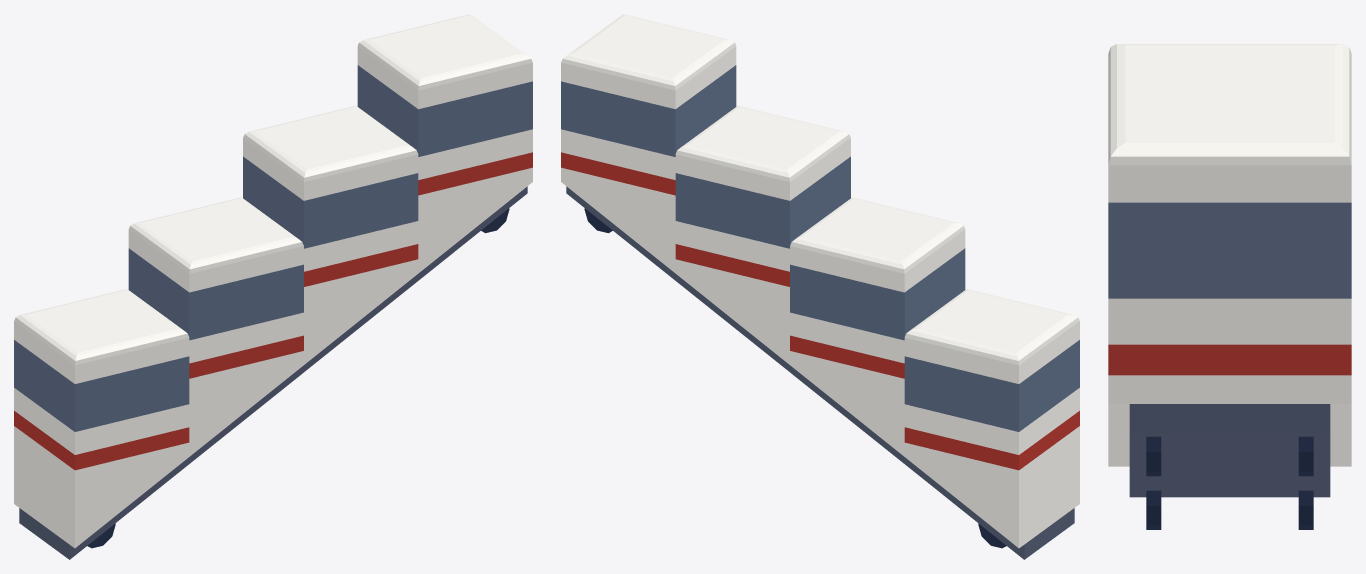
Rendered from funicular.glb.
3 renders of one model, left to right at view 1: azimuth 30°, elevation 25°; view 2: azimuth 150°, elevation 25°; view 3: azimuth 270°, elevation 25°, orthographic. The views are drawn at different scales.
Visible parts, largest first — view 1: model; view 2: model; view 3: model.
Boxes of the visible parts, x1,y1,x2,y2 form: model: [14, 14, 532, 559]; model: [561, 14, 1079, 559]; model: [1108, 44, 1351, 529].
Bounding box in the file's own units: 10 × 8.29 × 2.3.
